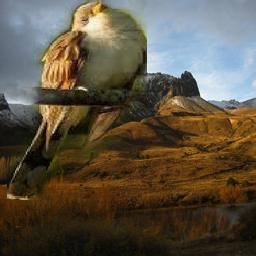Cuckoo: (7, 0, 147, 200)
